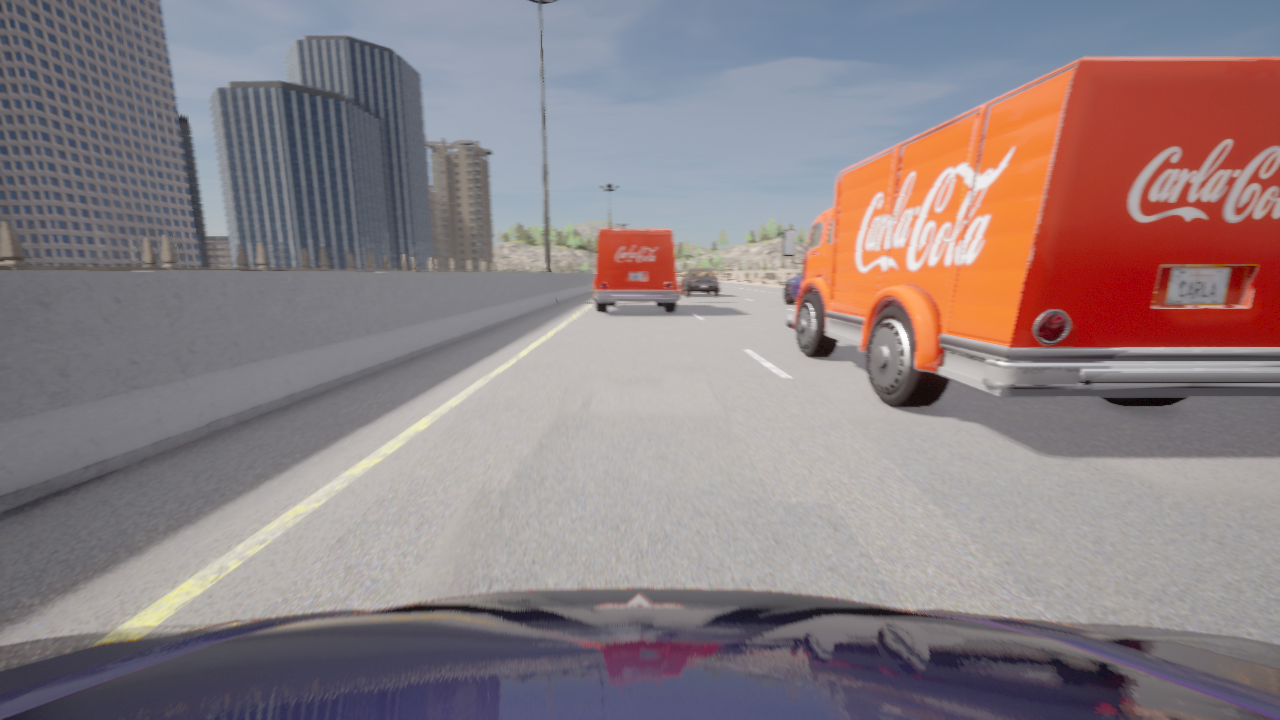cyclist: (782, 57, 1279, 406), (0, 588, 1279, 719), (593, 229, 679, 312), (680, 269, 718, 296), (784, 271, 801, 303)
